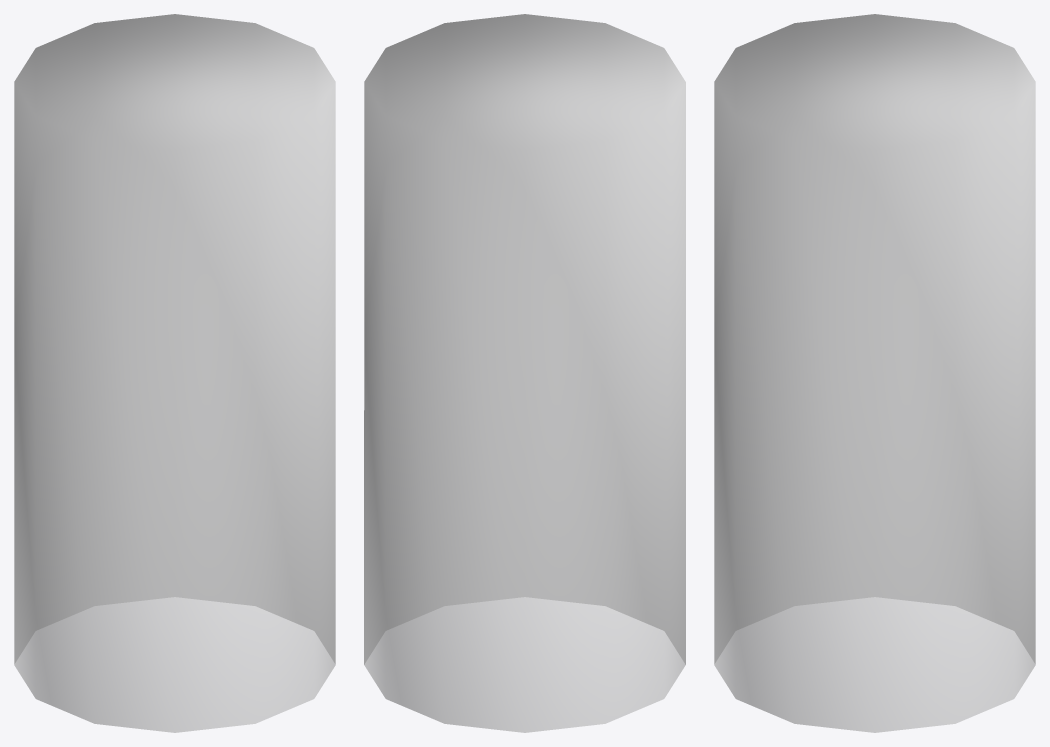
Rendered from solidifier_fluid.obj.
The picture shows the model from 3 angles, left to right: view 1: azimuth 30°, elevation 25°; view 2: azimuth 150°, elevation 25°; view 3: azimuth 270°, elevation 25°; orthographic projection.
Visible parts, largest first — view 1: Fluid; view 2: Fluid; view 3: Fluid.
Boxes of the visible parts, left/top/right/bottom form: Fluid: left=14, top=14, right=335, bottom=732; Fluid: left=364, top=14, right=685, bottom=732; Fluid: left=714, top=14, right=1035, bottom=732.
Bounding box in the file's own units: 0.75 × 1.5 × 0.75.
